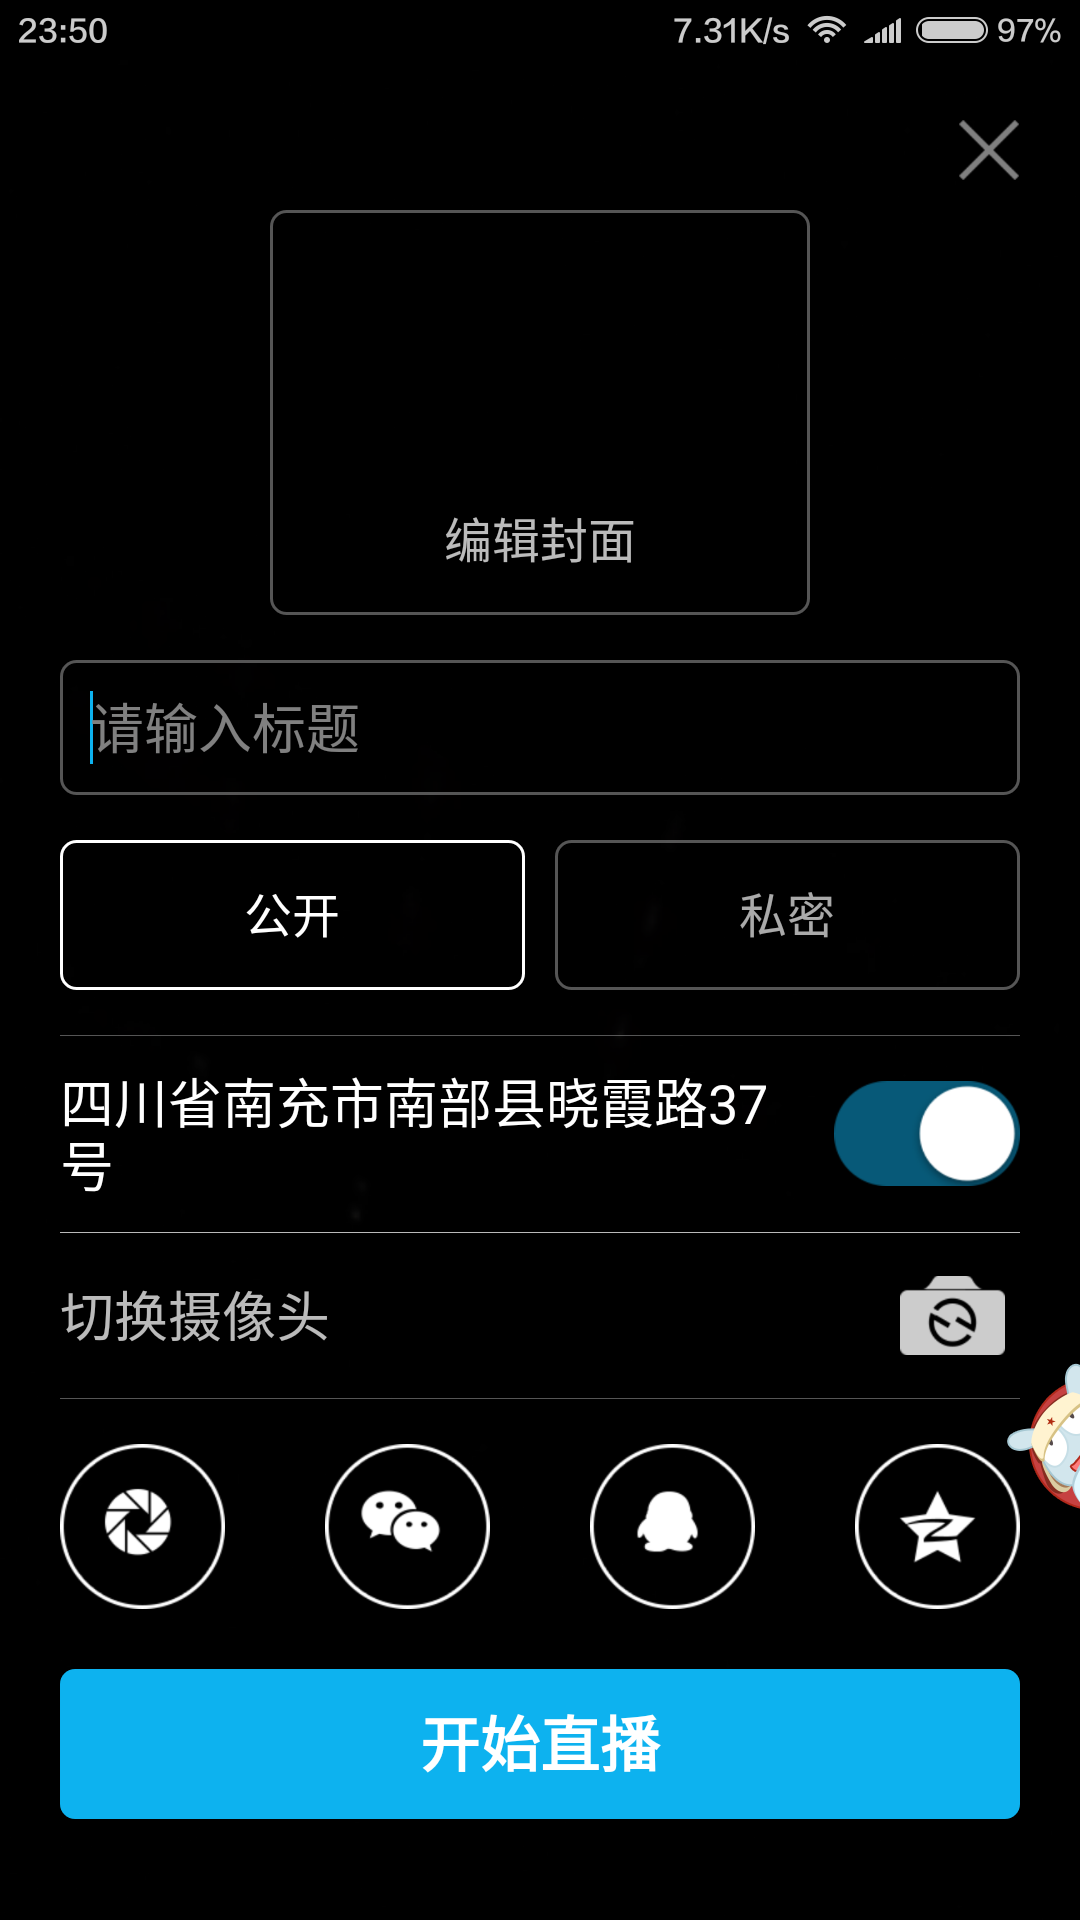button: (44, 1655, 1040, 1832), (543, 825, 1036, 1006), (51, 831, 539, 1004)
imgbutton: (877, 1251, 1022, 1379)
textview: (53, 655, 1033, 810), (40, 1059, 789, 1221)
